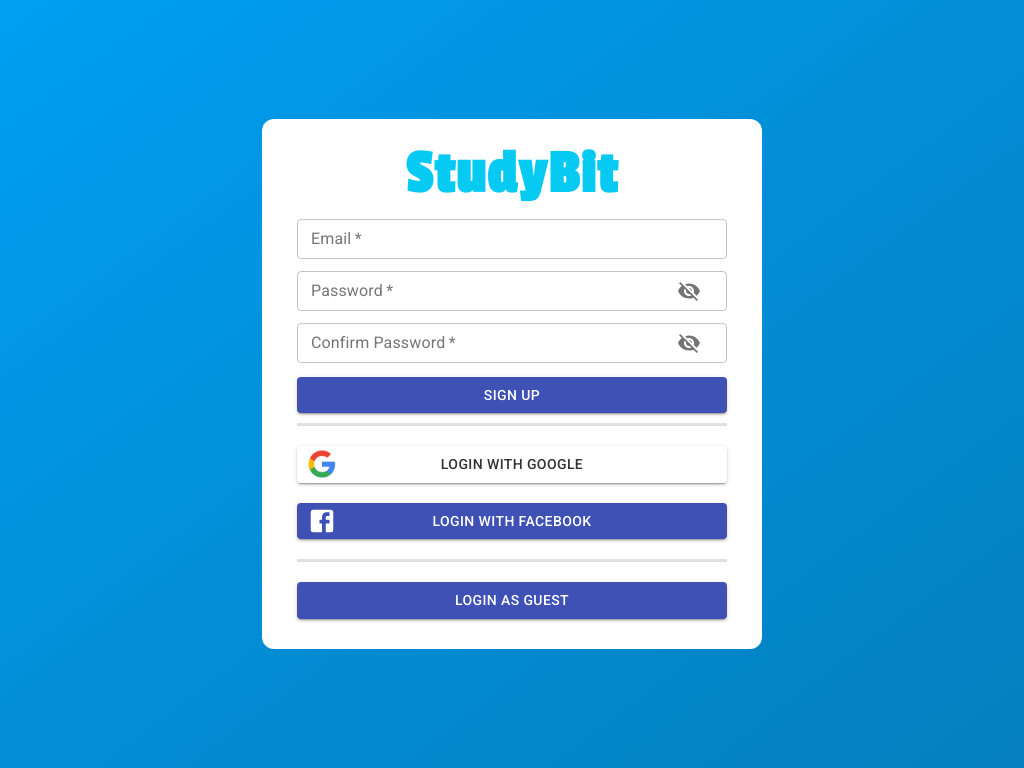
Scenario: AuthForm › confirm password input › should show error when value and password don't match
The width and height of the screenshot is (1024, 768).
Type "password1" into the password field labelled "Password *" at (477, 291), box x1=297 y1=271 x2=657 y2=311
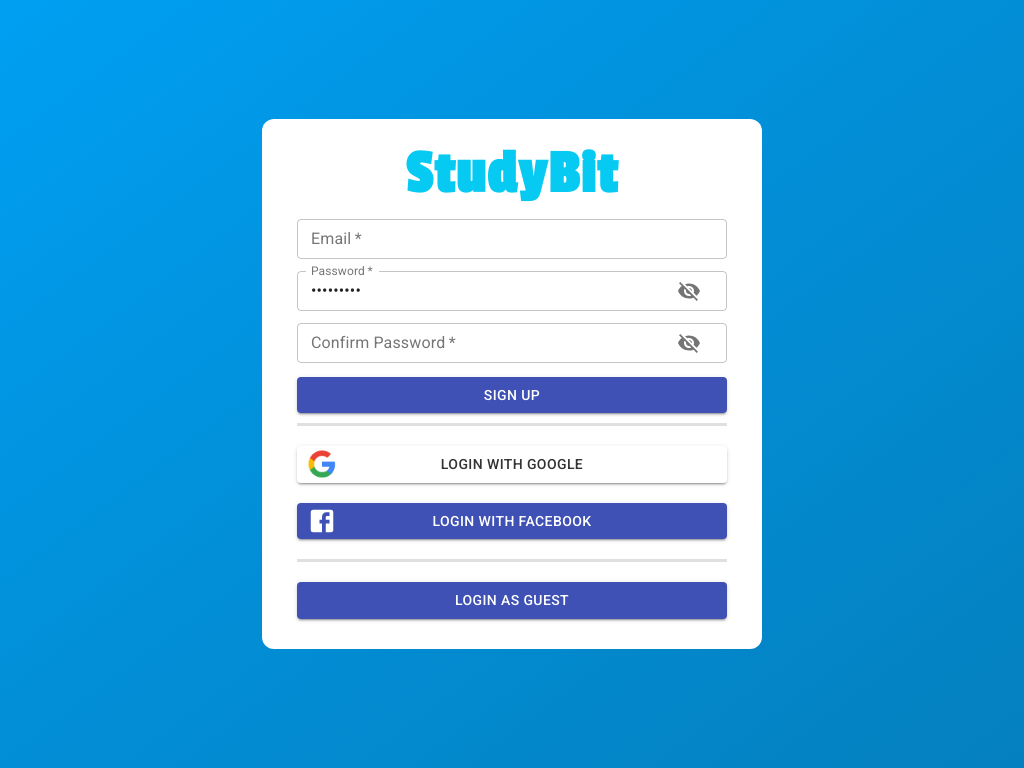
Type "pasdfsdfs1" into the password field labelled "Confirm Password *" at (477, 343), box x1=297 y1=323 x2=657 y2=363
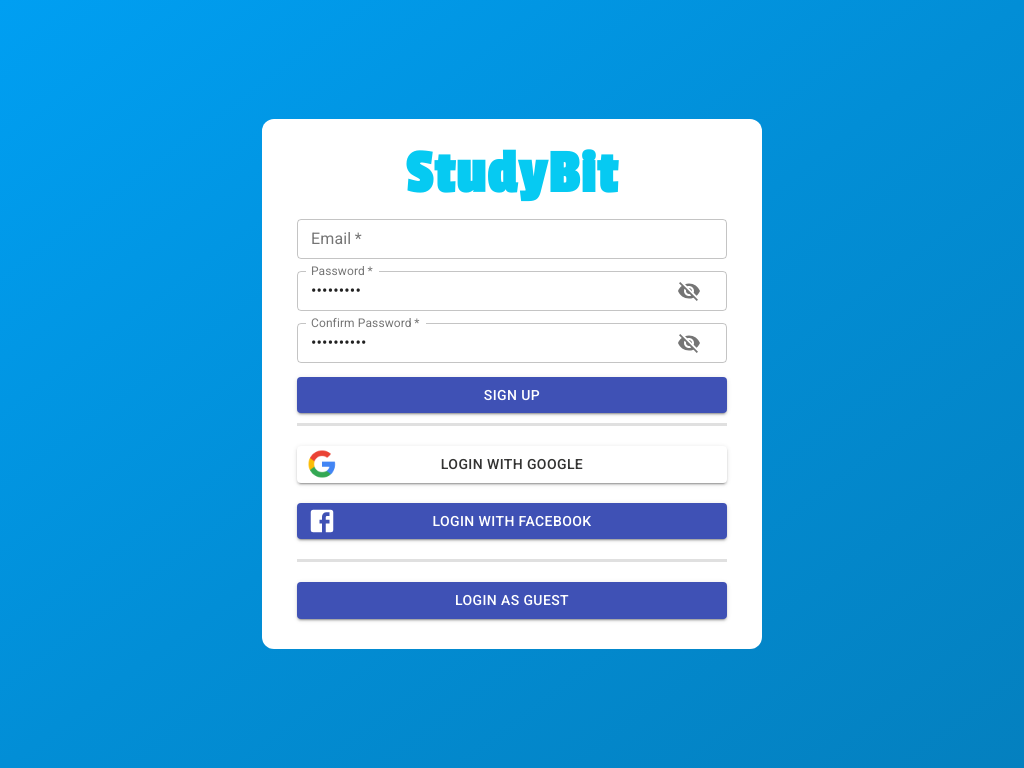
Leave the password field labelled "Confirm Password *", box x1=297 y1=323 x2=657 y2=363
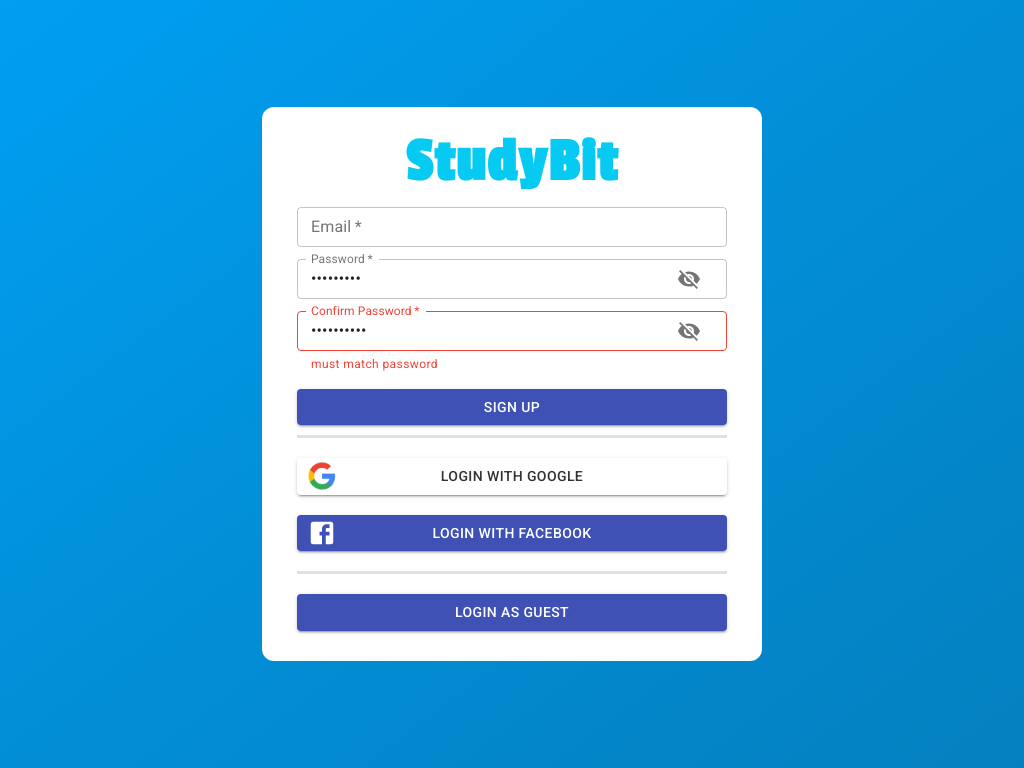
Result: the text "must match password" is shown at x1=311 y1=357 x2=438 y2=371
